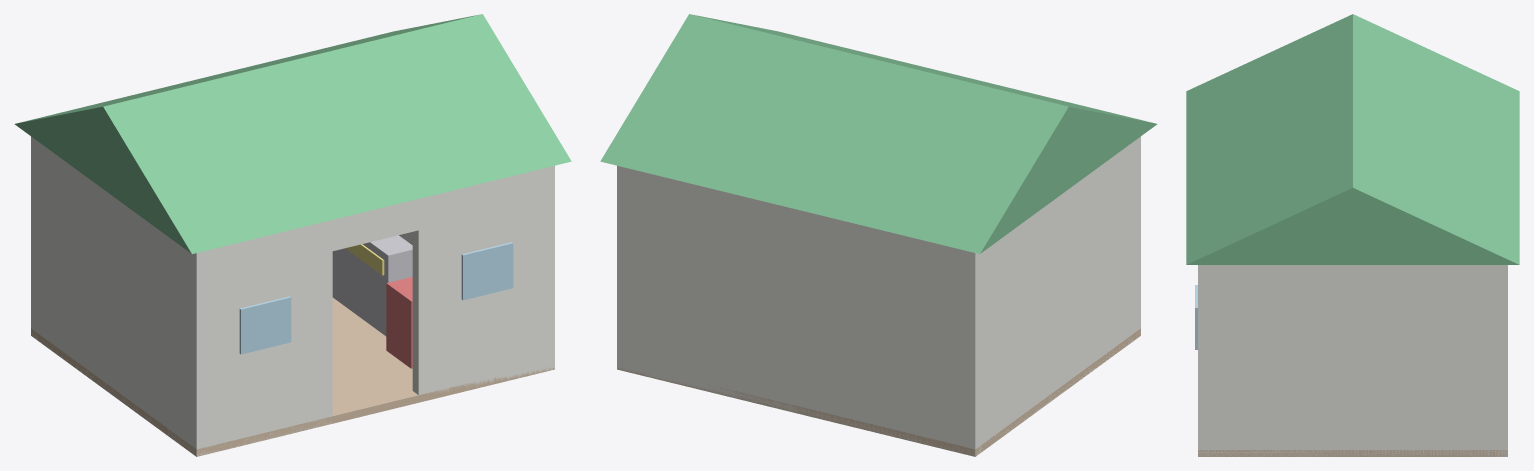
File: super.glb
3 renders of one model, left to right at view 1: azimuth 30°, elevation 25°; view 2: azimuth 150°, elevation 25°; view 3: azimuth 270°, elevation 25°, orthographic. The views are drawn at different scales.
Visible parts, largest first — view 1: Techo, Pared_izq, Pared_del_b, Pared_del_a, Suelo, Estanteria.002, Pared_dintel, Ventana, Ventana.001, Caja, Pared_tras, Pared_der; view 2: Pared_tras, Techo, Pared_izq, Suelo; view 3: Techo, Pared_der, Pared_tras, Suelo, Pared_del_b.
Boxes of the visible parts, x1,y1,x2,y2 form: Techo: (14, 14, 571, 253); Pared_izq: (31, 137, 207, 455); Pared_del_b: (412, 165, 554, 394); Pared_del_a: (190, 220, 332, 455); Suelo: (31, 297, 554, 456); Estanteria.002: (332, 235, 412, 336); Pared_dintel: (332, 199, 418, 250); Ventana: (239, 296, 291, 354); Ventana.001: (461, 242, 513, 300); Caja: (386, 277, 412, 368); Pared_tras: (31, 136, 37, 339); Pared_der: (399, 166, 554, 368); Pared_tras: (617, 166, 981, 455); Techo: (600, 14, 1157, 253); Pared_izq: (966, 136, 1140, 456); Suelo: (617, 328, 1140, 456); Techo: (1186, 14, 1519, 264); Pared_der: (1198, 265, 1507, 456); Pared_tras: (1496, 265, 1507, 456); Suelo: (1198, 450, 1507, 456); Pared_del_b: (1198, 265, 1209, 456).
Size of the model in its own units: 5.3 by 3.9 by 4.3.
